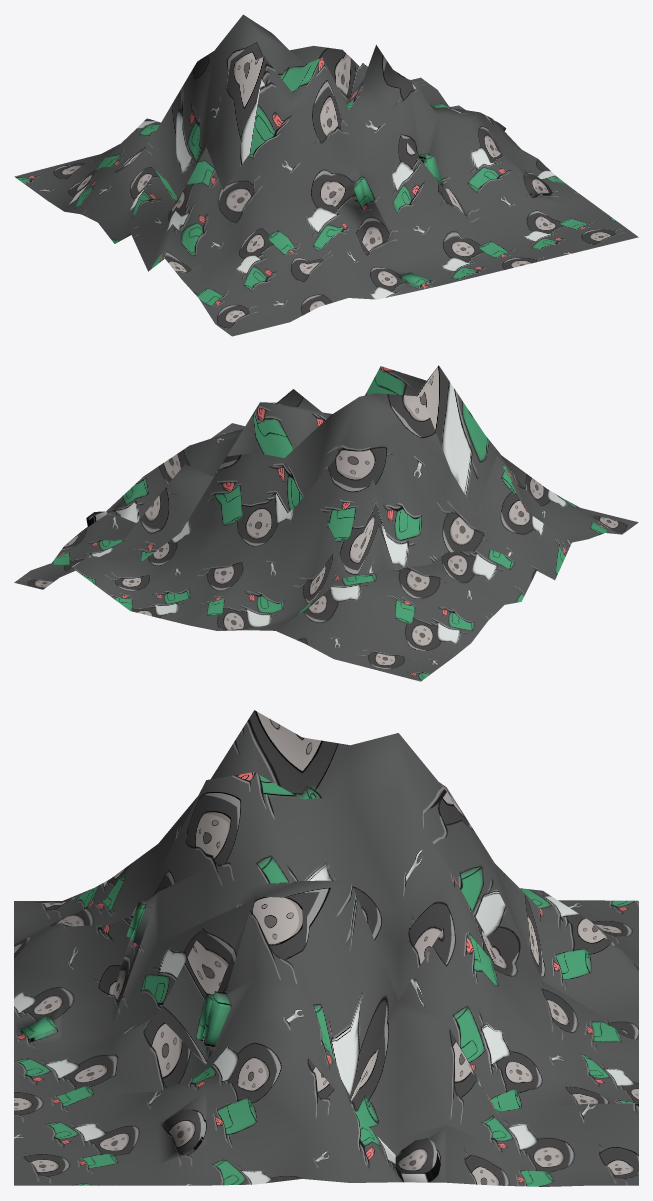
File: junkpile.fbx
3 views of the same model, one above another, from view 1: azimuth 30°, elevation 25°; view 2: azimuth 150°, elevation 25°; view 3: azimuth 270°, elevation 25° (orthographic). The views are drawn at different scales.
Parts seen in each view (by area): view 1: Plane; view 2: Plane; view 3: Plane.
Part boxes in pixels (x1,y1,x2,y2): Plane: (14, 14, 638, 336); Plane: (14, 365, 638, 681); Plane: (14, 710, 638, 1186).
Bounding box in the file's own units: 176 × 79.5 × 163.
